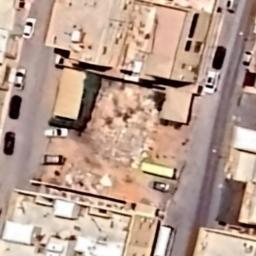SUV: (204, 71, 220, 94), (40, 155, 64, 165)
pickup: (44, 128, 68, 137)
sedan: (212, 45, 226, 70), (9, 94, 22, 120), (22, 18, 36, 40), (3, 132, 15, 156), (14, 68, 26, 90)
